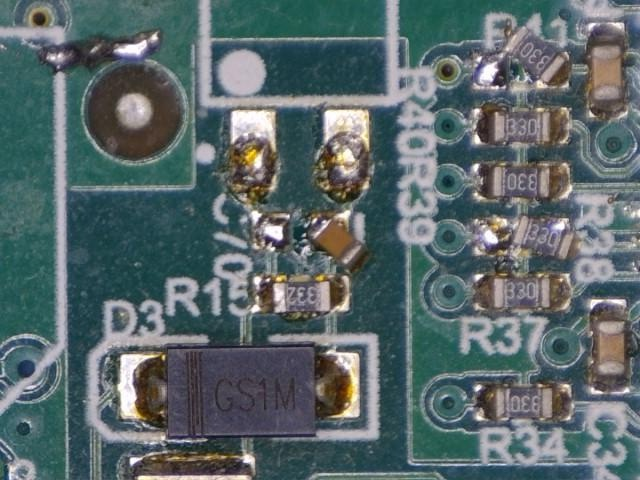pcb_defect: (472, 24, 572, 93), (471, 213, 575, 260), (307, 212, 369, 274)
